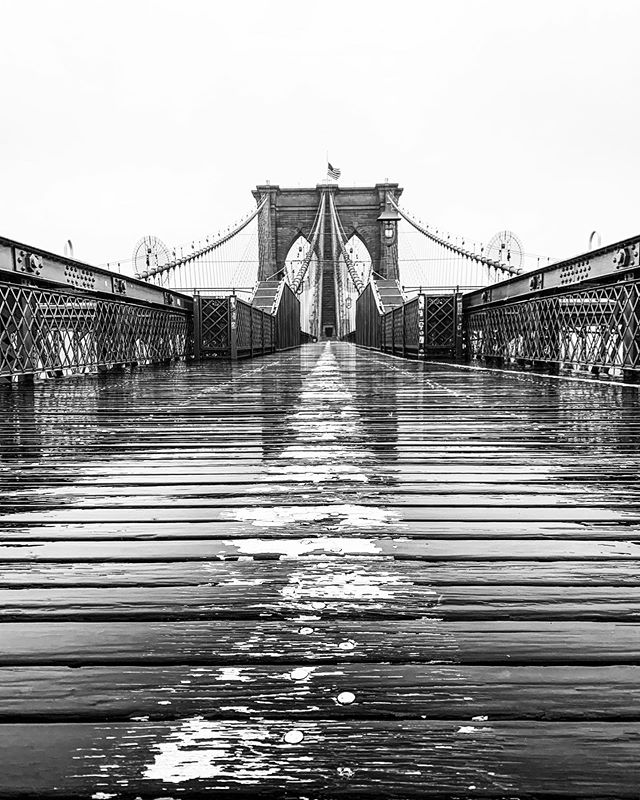bridge: (3, 164, 640, 800)
sky: (1, 1, 640, 231)
